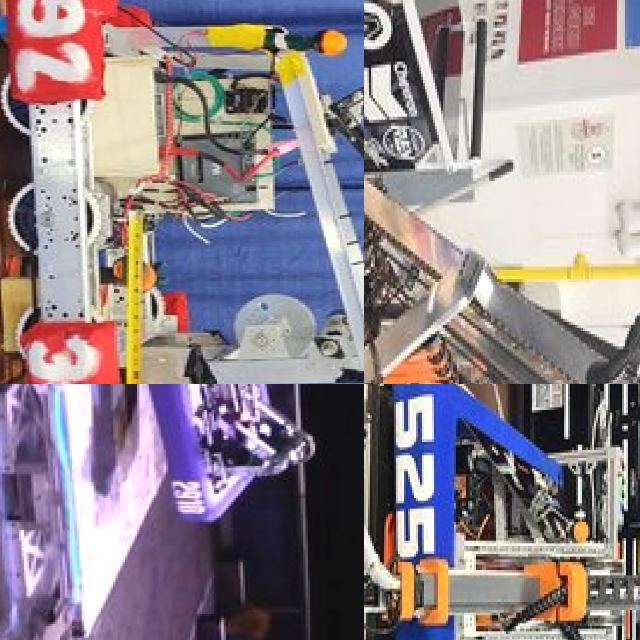FRC-Robots: (5, 0, 364, 384), (364, 109, 640, 384), (364, 384, 640, 640), (117, 384, 329, 582)
